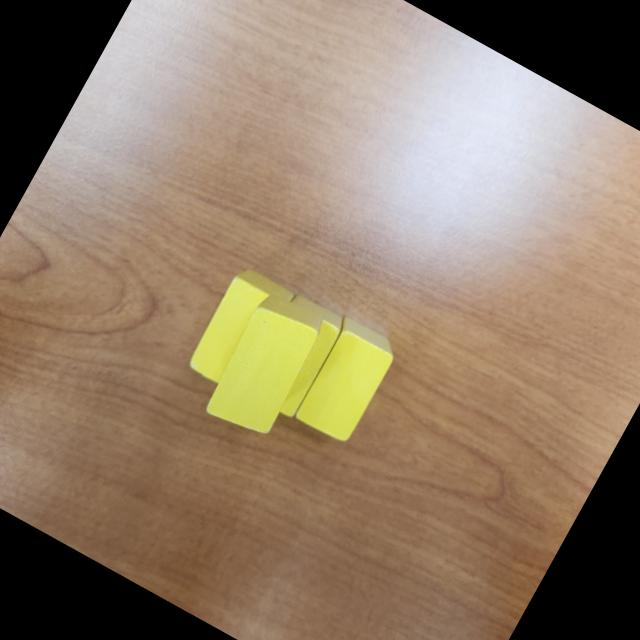yellow: (196, 286, 332, 448), (238, 287, 352, 425), (184, 261, 299, 397), (288, 312, 402, 446)
